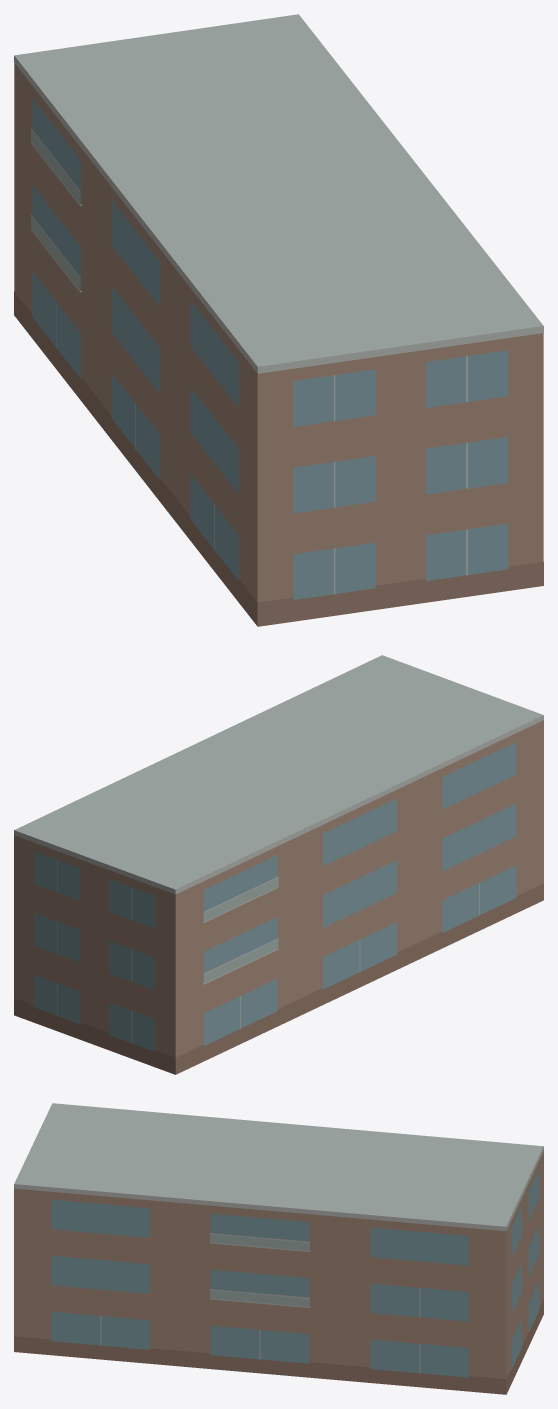
The model's file is survey-upis-32758953.glb.
3 views of the same model, one above another, from view 1: azimuth 30°, elevation 25°; view 2: azimuth 150°, elevation 25°; view 3: azimuth 270°, elevation 25° (orthographic). The views are drawn at different scales.
Parts seen in each view (by area): view 1: survey-upis-32758953.tmp; view 2: survey-upis-32758953.tmp; view 3: survey-upis-32758953.tmp.
Boxes of the visible parts, x1=… form: survey-upis-32758953.tmp: x1=14, y1=14, x2=543, y2=626; survey-upis-32758953.tmp: x1=14, y1=655, x2=543, y2=1074; survey-upis-32758953.tmp: x1=14, y1=1103, x2=543, y2=1394.
Size of the model in its own units: 14.47 by 9.15 by 26.17.
